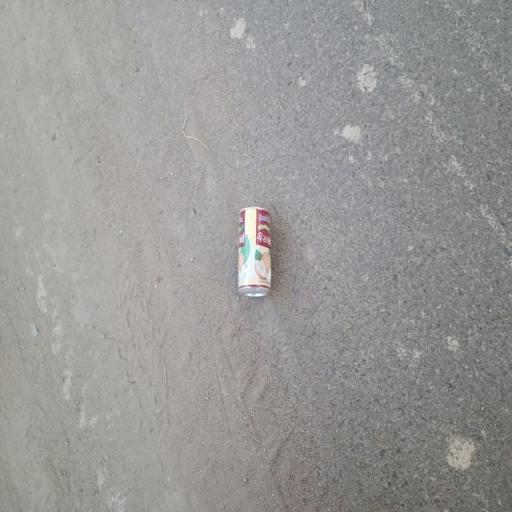metal: (214, 185, 291, 311)
